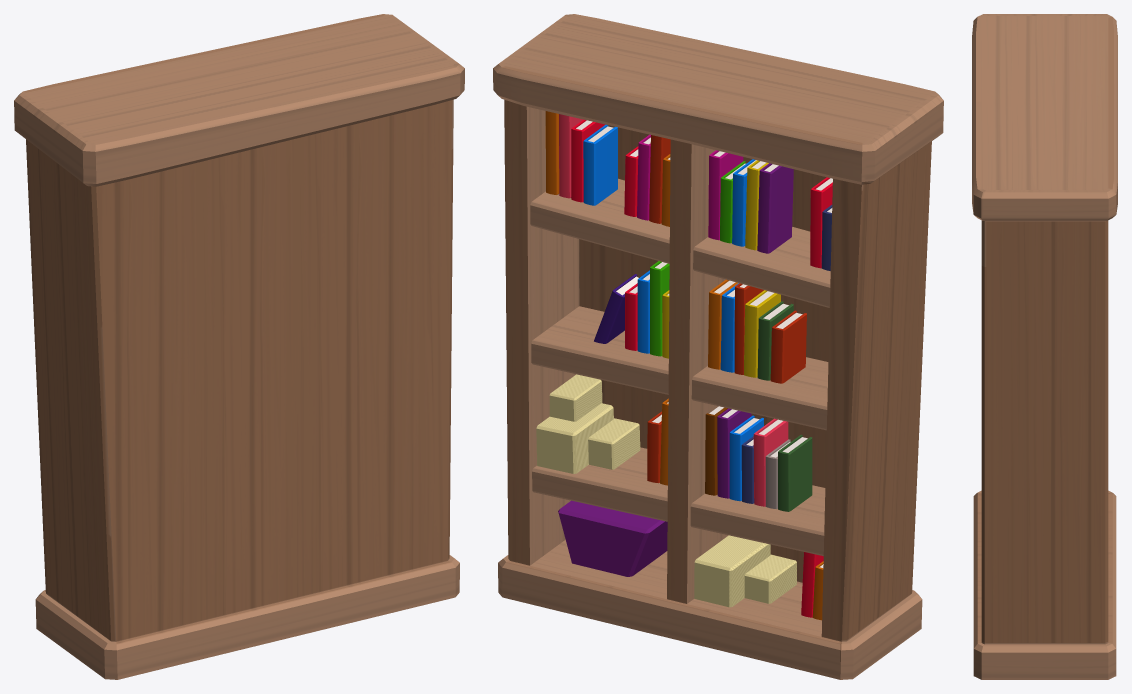
Rendered from BookShelf_Full.fbx.
The picture shows the model from 3 angles, left to right: view 1: azimuth 30°, elevation 25°; view 2: azimuth 150°, elevation 25°; view 3: azimuth 270°, elevation 25°; orthographic projection. The views are drawn at different scales.
Parts seen in each view (by area): view 1: Bookshelf_Full; view 2: Bookshelf_Full; view 3: Bookshelf_Full.
Part boxes in pixels (x1,y1,x2,y2): Bookshelf_Full: (14, 14, 464, 679); Bookshelf_Full: (493, 14, 943, 679); Bookshelf_Full: (972, 14, 1117, 679).
Size of the model in its own units: 150 by 204 by 53.77.
Materials: 2 (2 with a texture image).
